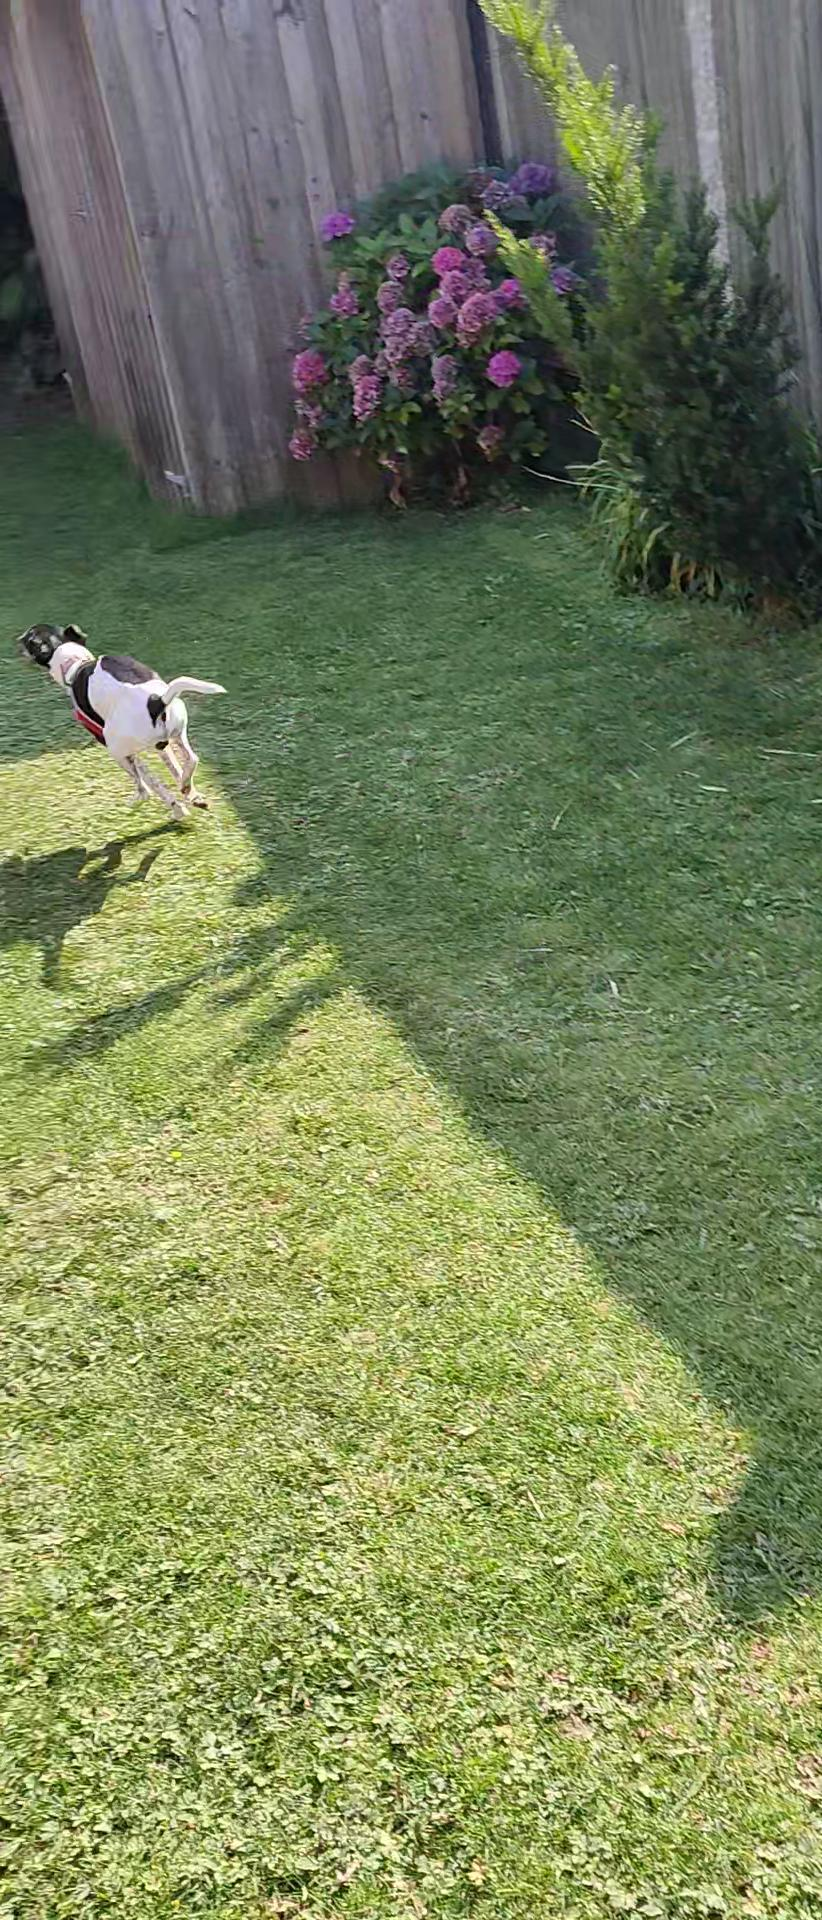Dog: (6, 598, 233, 833)
